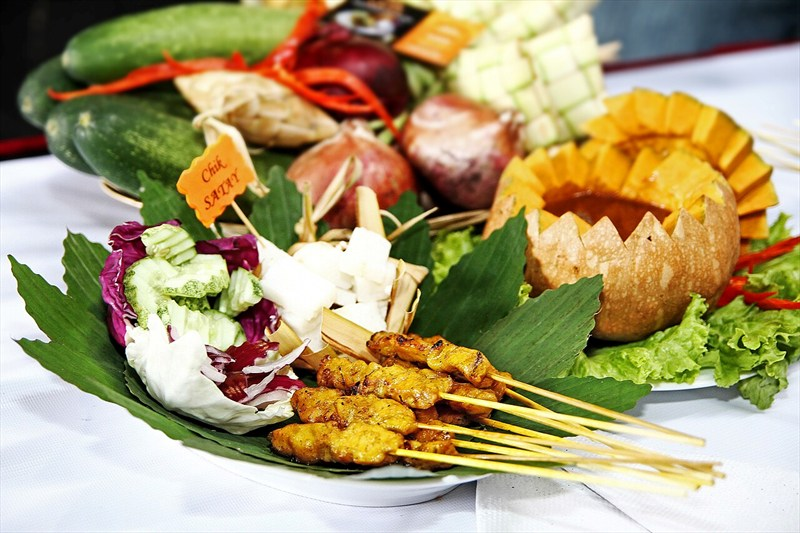Sate Ayam: (112, 44, 768, 472)
